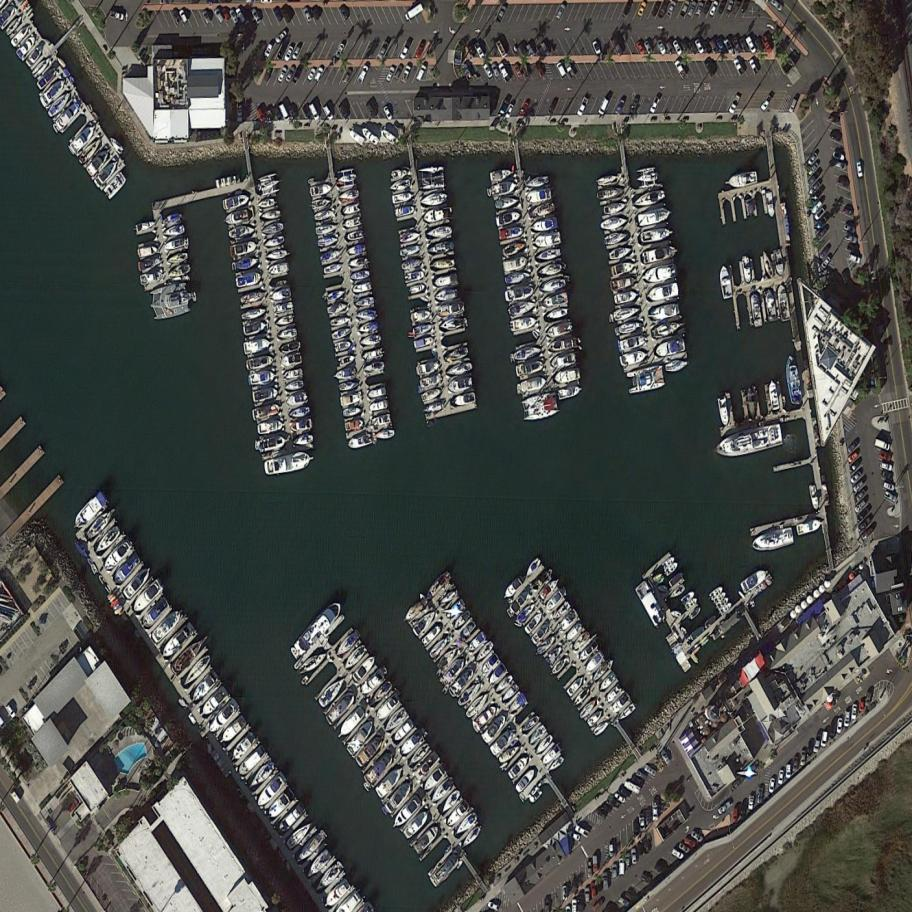large-vehicle: (404, 2, 426, 22)
ship: (286, 598, 348, 662), (712, 423, 785, 462), (143, 281, 201, 323), (630, 577, 670, 632), (67, 489, 111, 534), (168, 632, 211, 677), (158, 621, 200, 661), (262, 450, 317, 480), (660, 630, 695, 676), (149, 605, 187, 645), (361, 749, 399, 789), (294, 827, 331, 868), (343, 716, 379, 758), (129, 578, 167, 617), (253, 770, 290, 810), (623, 364, 668, 396), (388, 794, 425, 832), (322, 689, 359, 727), (206, 698, 243, 735), (84, 504, 120, 542), (310, 859, 348, 895), (428, 851, 464, 889), (100, 538, 136, 575), (519, 392, 561, 423), (187, 670, 223, 706), (373, 764, 408, 800), (180, 652, 214, 689), (121, 565, 155, 602), (750, 527, 796, 554), (235, 743, 270, 778), (353, 734, 388, 769), (111, 551, 145, 587), (382, 779, 415, 816), (139, 597, 174, 631), (245, 758, 279, 793), (50, 100, 84, 135), (335, 705, 369, 740), (316, 675, 350, 710), (197, 685, 231, 719), (283, 818, 317, 852), (217, 714, 251, 748), (446, 665, 478, 700), (265, 788, 298, 821), (37, 76, 70, 109), (92, 524, 124, 558), (303, 848, 335, 882), (422, 570, 454, 604), (358, 665, 392, 697), (277, 802, 309, 835), (67, 123, 100, 155), (398, 726, 431, 758), (784, 355, 804, 407), (321, 878, 353, 910), (411, 824, 443, 856), (526, 563, 558, 595), (91, 157, 122, 190), (440, 655, 471, 688), (45, 88, 76, 120), (401, 809, 432, 841), (350, 652, 380, 685), (295, 649, 332, 675), (428, 775, 459, 806), (332, 629, 363, 660), (229, 731, 259, 762), (84, 147, 114, 178), (421, 763, 451, 794), (373, 693, 403, 724), (463, 690, 493, 720), (410, 608, 440, 638), (76, 136, 105, 167), (480, 713, 509, 744), (455, 680, 486, 709), (738, 568, 771, 595), (341, 642, 370, 672), (416, 164, 447, 192), (452, 810, 481, 839), (488, 728, 517, 757), (382, 706, 411, 735), (444, 799, 472, 829), (102, 171, 130, 200), (632, 188, 668, 210), (642, 245, 680, 265), (637, 207, 673, 228), (367, 680, 395, 707), (724, 169, 760, 190), (439, 787, 464, 817), (650, 319, 685, 340), (643, 263, 678, 284), (434, 644, 461, 671), (634, 165, 663, 190), (513, 768, 539, 795), (406, 742, 432, 769), (459, 824, 484, 852), (254, 172, 282, 197), (556, 607, 582, 633), (14, 35, 40, 61), (539, 742, 565, 768), (647, 283, 680, 303), (538, 576, 564, 601), (34, 66, 60, 91), (508, 589, 533, 615), (507, 755, 532, 781), (532, 633, 558, 658), (472, 640, 497, 666), (400, 601, 427, 625), (650, 302, 682, 322), (618, 349, 651, 368), (617, 334, 650, 353), (506, 299, 539, 318), (256, 435, 289, 454), (391, 719, 416, 744), (474, 705, 500, 729), (639, 227, 675, 244), (776, 285, 792, 323), (251, 403, 283, 422), (577, 639, 601, 664), (523, 610, 546, 636), (717, 265, 734, 300), (24, 43, 46, 70), (655, 339, 686, 358), (512, 344, 543, 363), (515, 359, 546, 378), (759, 249, 777, 281), (504, 285, 536, 303), (501, 577, 525, 601), (9, 25, 33, 49), (428, 636, 452, 660), (515, 601, 539, 625), (530, 621, 553, 646), (30, 56, 53, 80), (598, 215, 630, 232), (423, 207, 455, 224), (234, 271, 264, 289), (222, 193, 252, 211), (543, 589, 566, 612), (570, 629, 593, 652), (421, 624, 444, 647), (548, 655, 571, 678), (451, 609, 474, 632), (583, 651, 605, 675), (532, 232, 563, 249), (245, 355, 276, 372), (247, 370, 278, 387), (491, 180, 520, 198), (501, 240, 528, 259), (749, 294, 764, 328), (613, 320, 643, 337), (518, 377, 548, 394), (445, 361, 475, 378), (597, 671, 619, 694), (609, 692, 632, 714), (521, 557, 544, 579), (3, 15, 25, 38), (505, 693, 528, 715), (566, 675, 588, 698), (465, 632, 488, 654), (533, 734, 555, 757), (493, 673, 516, 695), (479, 653, 501, 676), (359, 126, 382, 148), (610, 260, 638, 278), (542, 292, 570, 310), (487, 663, 508, 687), (378, 127, 402, 148), (745, 388, 760, 421), (497, 744, 523, 763), (613, 305, 642, 322), (495, 210, 524, 227), (243, 338, 272, 355), (251, 386, 280, 403), (547, 321, 574, 339), (571, 686, 592, 709), (528, 724, 549, 747), (345, 127, 368, 148), (509, 316, 539, 332), (439, 316, 469, 332), (229, 241, 259, 257), (602, 230, 630, 247), (530, 202, 558, 219), (420, 192, 449, 208), (531, 217, 560, 233), (436, 301, 465, 317), (767, 379, 781, 412), (616, 702, 638, 723), (591, 661, 611, 684), (578, 697, 598, 720), (520, 714, 543, 734), (550, 353, 577, 370), (554, 368, 581, 385), (796, 519, 823, 536), (347, 434, 374, 451), (447, 377, 474, 394), (503, 271, 533, 286), (610, 276, 638, 292), (501, 256, 529, 272), (167, 263, 193, 280), (71, 538, 92, 559), (106, 134, 126, 156), (596, 187, 625, 202), (427, 241, 456, 256), (602, 201, 629, 217), (608, 246, 635, 262), (540, 278, 567, 294), (234, 256, 261, 272), (257, 419, 284, 435), (527, 187, 552, 204), (564, 622, 585, 642), (604, 684, 624, 705), (500, 684, 521, 704), (586, 708, 607, 728), (228, 225, 256, 240), (240, 307, 268, 322), (665, 358, 691, 374), (444, 347, 470, 363), (224, 209, 250, 225), (772, 248, 786, 277), (548, 338, 575, 353), (557, 385, 584, 400), (498, 226, 525, 241), (535, 247, 562, 262), (240, 290, 267, 305), (764, 188, 777, 219), (552, 601, 572, 621), (242, 320, 267, 336), (765, 290, 777, 323), (613, 290, 639, 305), (718, 397, 731, 427), (433, 274, 459, 289), (494, 196, 520, 211), (538, 262, 564, 277), (332, 366, 358, 381), (386, 167, 410, 183), (388, 178, 413, 193), (489, 168, 514, 183), (525, 175, 550, 190), (434, 288, 459, 303), (309, 183, 334, 198), (280, 352, 303, 368), (668, 583, 688, 601), (453, 393, 477, 408), (419, 374, 443, 389), (592, 719, 612, 737), (261, 222, 285, 237), (339, 392, 363, 407), (289, 418, 313, 433), (269, 288, 293, 303), (416, 362, 441, 376), (139, 271, 164, 285), (264, 235, 287, 250), (330, 326, 353, 341), (288, 406, 311, 421), (460, 621, 479, 639), (547, 756, 566, 774), (597, 173, 621, 187), (359, 334, 383, 348), (438, 591, 459, 607), (286, 392, 308, 407), (398, 244, 423, 257), (667, 571, 686, 588), (546, 307, 569, 321), (409, 309, 432, 323), (420, 388, 443, 402), (163, 238, 186, 252), (319, 249, 342, 263), (292, 433, 315, 447), (391, 192, 415, 205), (741, 256, 752, 284), (351, 281, 373, 295), (167, 252, 189, 266), (322, 262, 344, 276), (708, 585, 726, 602), (403, 271, 426, 284), (401, 258, 424, 271), (412, 323, 435, 336), (163, 225, 186, 238), (267, 263, 290, 276), (809, 484, 820, 511), (326, 289, 347, 303), (277, 328, 298, 342), (527, 788, 544, 805), (663, 561, 681, 577), (689, 625, 707, 641), (314, 223, 338, 235), (265, 249, 289, 261), (338, 189, 360, 202), (394, 205, 416, 218), (430, 259, 456, 270), (413, 336, 435, 349), (427, 227, 453, 238), (313, 209, 335, 222), (280, 341, 302, 354), (337, 353, 357, 367), (398, 231, 421, 243), (363, 361, 386, 373), (362, 349, 385, 361), (423, 402, 446, 414), (371, 414, 392, 427), (342, 217, 363, 230), (161, 213, 182, 226), (344, 419, 365, 432), (680, 590, 697, 606), (702, 614, 719, 630), (712, 590, 729, 606), (683, 596, 701, 611), (134, 220, 156, 232), (326, 303, 348, 315), (338, 381, 360, 393), (355, 296, 375, 309), (715, 596, 732, 611), (369, 400, 390, 412), (367, 387, 388, 399), (346, 244, 367, 256), (678, 625, 692, 643), (257, 198, 278, 210), (311, 198, 332, 210), (284, 380, 305, 392), (342, 203, 361, 216), (688, 606, 704, 621), (718, 602, 734, 617), (376, 429, 396, 441), (358, 322, 378, 334), (139, 246, 159, 258), (283, 368, 303, 380), (661, 555, 678, 569), (348, 257, 369, 268), (338, 173, 357, 185), (334, 341, 353, 353), (275, 315, 294, 327), (275, 302, 294, 314), (343, 407, 363, 418), (317, 237, 339, 247), (350, 271, 371, 281), (330, 317, 351, 327), (410, 283, 427, 295), (360, 780, 373, 795), (357, 310, 377, 319), (347, 231, 365, 241), (262, 211, 281, 220), (96, 573, 108, 587), (418, 592, 429, 607), (441, 681, 452, 696), (88, 563, 99, 577), (530, 329, 541, 341), (434, 667, 444, 680), (103, 583, 113, 595), (656, 585, 669, 594), (780, 394, 787, 409), (670, 610, 683, 618), (508, 353, 515, 365), (609, 313, 614, 325)
small-vehicle: (849, 473, 871, 495), (855, 512, 877, 534), (812, 212, 833, 234), (851, 495, 873, 516), (858, 523, 879, 545), (813, 223, 833, 243), (715, 798, 736, 817), (851, 485, 872, 504), (854, 503, 873, 524), (744, 759, 763, 779), (807, 178, 826, 198), (758, 93, 777, 113), (702, 56, 719, 78), (612, 95, 628, 118), (728, 93, 744, 115), (627, 95, 643, 117), (413, 38, 429, 60), (849, 467, 868, 485), (809, 197, 827, 216), (562, 59, 578, 80), (376, 39, 392, 60), (684, 0, 699, 22), (648, 92, 663, 114), (805, 159, 823, 177), (817, 241, 835, 259), (273, 27, 291, 45), (805, 149, 822, 168), (571, 823, 591, 839), (705, 0, 721, 20), (673, 60, 689, 80), (398, 41, 414, 61), (743, 34, 758, 55), (663, 0, 677, 22), (262, 38, 276, 60), (624, 779, 643, 795), (638, 871, 657, 887), (211, 6, 227, 25), (336, 101, 352, 120), (829, 157, 849, 172), (881, 490, 901, 505), (752, 35, 767, 55), (544, 98, 559, 118), (516, 99, 531, 119), (523, 39, 538, 59), (575, 97, 590, 117), (493, 4, 508, 24), (597, 96, 612, 116), (355, 65, 370, 85), (732, 56, 746, 77), (283, 41, 297, 62), (845, 437, 862, 454), (806, 169, 823, 186), (847, 457, 865, 473), (533, 60, 548, 79), (610, 37, 625, 56), (107, 8, 126, 23), (654, 37, 669, 56), (495, 40, 509, 60), (553, 3, 567, 23), (284, 100, 298, 120), (333, 40, 347, 60), (364, 101, 378, 121), (761, 35, 774, 56), (677, 0, 690, 21), (635, 1, 648, 22), (473, 40, 486, 61), (393, 61, 406, 82), (654, 861, 671, 877), (64, 797, 81, 813), (828, 128, 845, 144), (8, 788, 23, 806), (681, 836, 699, 851), (819, 254, 834, 272), (845, 449, 863, 464), (253, 106, 268, 124), (641, 37, 656, 55), (555, 61, 569, 80), (301, 5, 315, 24), (290, 42, 304, 61), (280, 3, 294, 22), (414, 65, 428, 84), (276, 41, 289, 61), (730, 35, 743, 55), (693, 2, 706, 22), (748, 57, 761, 77), (340, 66, 353, 86), (401, 63, 414, 83), (592, 896, 608, 912), (670, 847, 687, 862), (675, 841, 692, 856), (642, 763, 659, 778), (615, 895, 632, 910), (321, 105, 336, 122), (170, 7, 184, 25), (481, 62, 495, 80), (338, 5, 352, 23), (877, 469, 896, 482), (537, 37, 550, 56), (511, 61, 524, 80), (308, 103, 321, 122), (276, 65, 289, 84), (612, 790, 628, 805), (679, 38, 693, 55), (633, 39, 647, 56), (277, 104, 291, 121), (219, 5, 233, 22), (658, 748, 671, 766), (874, 438, 892, 451), (879, 480, 897, 493), (503, 101, 516, 119), (723, 37, 736, 55), (687, 38, 700, 56), (272, 4, 285, 22), (228, 7, 241, 25), (384, 65, 397, 83), (689, 829, 705, 843), (630, 773, 646, 787), (486, 899, 503, 912), (845, 253, 862, 266), (843, 232, 860, 245), (841, 222, 858, 235), (831, 149, 848, 162), (737, 36, 750, 53), (250, 9, 263, 26), (290, 66, 303, 83), (739, 798, 749, 820), (600, 870, 611, 890), (828, 719, 839, 739), (285, 64, 296, 84), (591, 38, 603, 56), (708, 37, 720, 55), (489, 61, 501, 79), (664, 38, 676, 56), (694, 37, 706, 55), (308, 6, 322, 21), (498, 62, 509, 81), (567, 829, 583, 842), (845, 243, 861, 256), (4, 703, 17, 719), (606, 796, 622, 809), (381, 104, 394, 120), (877, 449, 894, 461), (498, 99, 510, 116), (715, 36, 727, 53), (787, 98, 799, 115), (234, 7, 246, 24), (591, 853, 600, 875), (813, 207, 827, 221), (636, 769, 651, 782), (594, 808, 609, 821), (312, 66, 324, 82), (643, 807, 652, 828), (878, 461, 895, 472), (864, 690, 875, 707), (306, 66, 317, 83), (732, 803, 741, 823), (672, 41, 684, 56), (812, 738, 823, 754), (840, 206, 856, 217), (178, 9, 189, 25), (201, 9, 212, 25), (855, 160, 864, 179), (850, 703, 859, 722), (601, 802, 615, 814), (767, 777, 776, 795), (777, 768, 786, 786), (821, 729, 830, 747), (642, 836, 651, 854), (651, 802, 659, 822), (638, 813, 646, 833), (808, 738, 816, 758), (625, 853, 633, 872), (631, 847, 639, 866), (585, 859, 593, 878), (835, 178, 850, 188), (632, 817, 639, 838), (748, 794, 756, 812), (756, 787, 764, 805), (590, 882, 598, 900), (793, 753, 800, 772), (584, 886, 591, 905), (619, 858, 626, 877), (611, 864, 618, 882), (609, 840, 615, 860), (859, 697, 866, 714), (801, 749, 807, 768), (561, 884, 568, 900), (786, 763, 793, 779), (577, 895, 584, 911), (844, 710, 850, 727), (638, 841, 644, 858), (837, 718, 843, 734)
